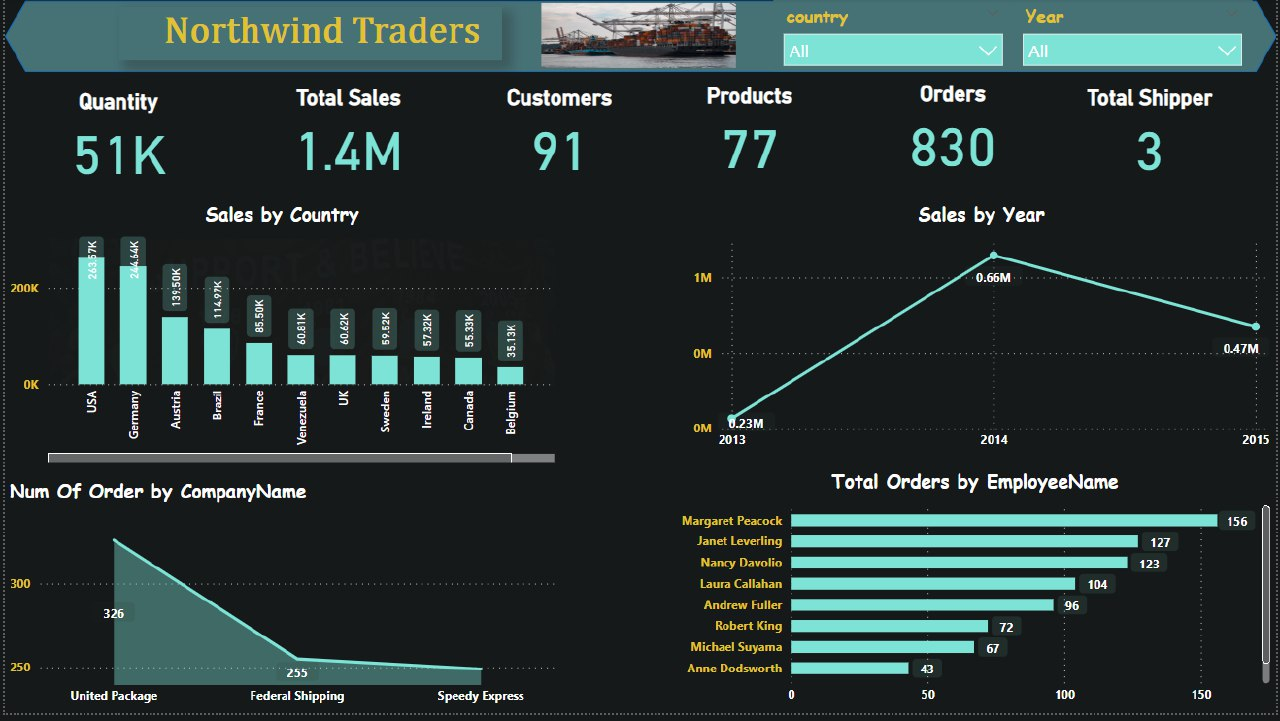

Layout of this report page (visuals, bound fields, positions):
{"tool":"powerbi","page":{"name":"Page 3","canvas":[1280,720],"ordinal":0},"visuals":[{"type":"shape","box":[0,2.9,1280.9,72.1],"z":0},{"type":"cardVisual","fields":{"Data":["products.productID"]},"box":[626.5,47.1,248.5,169.1],"z":1000},{"type":"cardVisual","fields":{"Data":["orders.quantity"]},"box":[0,52.9,229.4,167.6],"z":2000},{"type":"cardVisual","fields":{"Data":["orders.Sales"]},"box":[212.7,50.1,267.7,155.2],"z":3000},{"type":"cardVisual","fields":{"Data":["shippers.shipperID"]},"box":[1030.9,50,245.6,158.8],"z":4000},{"type":"cardVisual","fields":{"Data":["customers.contactName"]},"box":[442.5,50.1,232.3,155.2],"z":5000},{"type":"cardVisual","fields":{"Data":["orders.orderID"]},"box":[838.2,47.1,232.4,155.9],"z":6000},{"type":"columnChart","title":"Sales by Country","fields":{"Y":["orders.Sales"],"Category":["customers.country"]},"box":[0,202.6,558.4,268.8],"z":7000},{"type":"lineChart","title":" Sales by Year","fields":{"Y":["orders.Sales"],"Category":["Dates.Year"]},"box":[688.2,202.9,590.4,260.4],"z":8000},{"type":"stackedAreaChart","title":"Num Of Order by CompanyName","fields":{"Y":["Dax Measure.Num Of Order"],"Category":["shippers.companyName"]},"box":[0,481.8,558.4,239],"z":9000},{"type":"clusteredBarChart","title":"Total Orders by EmployeeName","fields":{"Y":["Dax Measure.Num Of Order"],"Category":["employees.employeeName"]},"box":[675,472.1,604.4,247.1],"z":10000},{"type":"slicer","fields":{"Values":["customers.country"]},"box":[773.8,0,241.2,73.8],"z":11000},{"type":"slicer","fields":{"Values":["Dates.Year"]},"box":[1015,0,241.2,73.8],"z":12000},{"type":"textbox","box":[114.7,8.8,385.3,54.4],"z":13000},{"type":"image","box":[535.3,0,205.9,75],"z":14000}]}

Visuals, with their boxes in screenshot pixels (x1, y1, x2, y2), scaled from the page's 1280x720 canvas onto the 1280x721 screenshot:
shape: 0 3 1279 75
cardVisual - products.productID: 626 47 875 217
cardVisual - orders.quantity: 0 53 229 221
cardVisual - orders.Sales: 213 50 480 206
cardVisual - shippers.shipperID: 1031 50 1276 209
cardVisual - customers.contactName: 442 50 675 206
cardVisual - orders.orderID: 838 47 1071 203
"Sales by Country" columnChart: 0 203 558 472
" Sales by Year" lineChart: 688 203 1279 464
"Num Of Order by CompanyName" stackedAreaChart: 0 482 558 720
"Total Orders by EmployeeName" clusteredBarChart: 675 473 1279 720
slicer - customers.country: 774 0 1015 74
slicer - Dates.Year: 1015 0 1256 74
textbox: 115 9 500 63
image: 535 0 741 75
